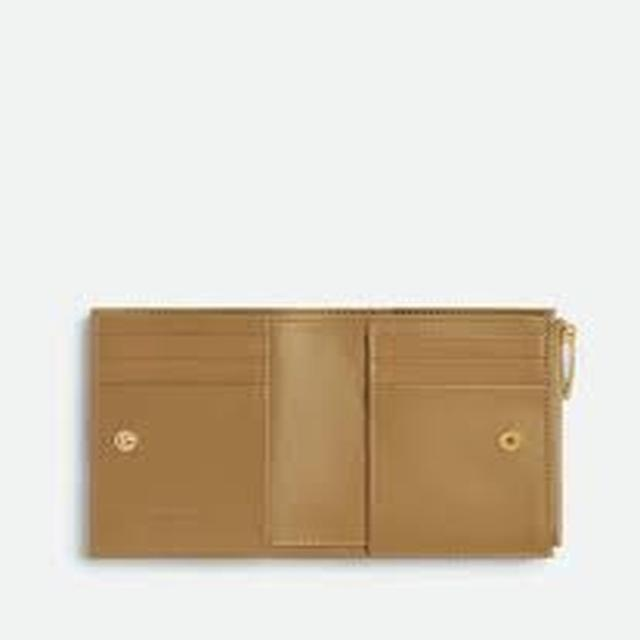wallet: (64, 298, 600, 582)
